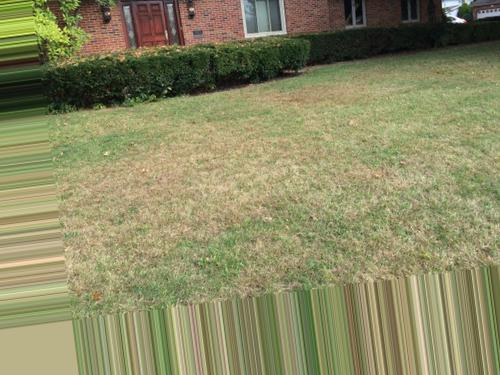patch: (73, 120, 479, 271), (302, 93, 475, 121)
